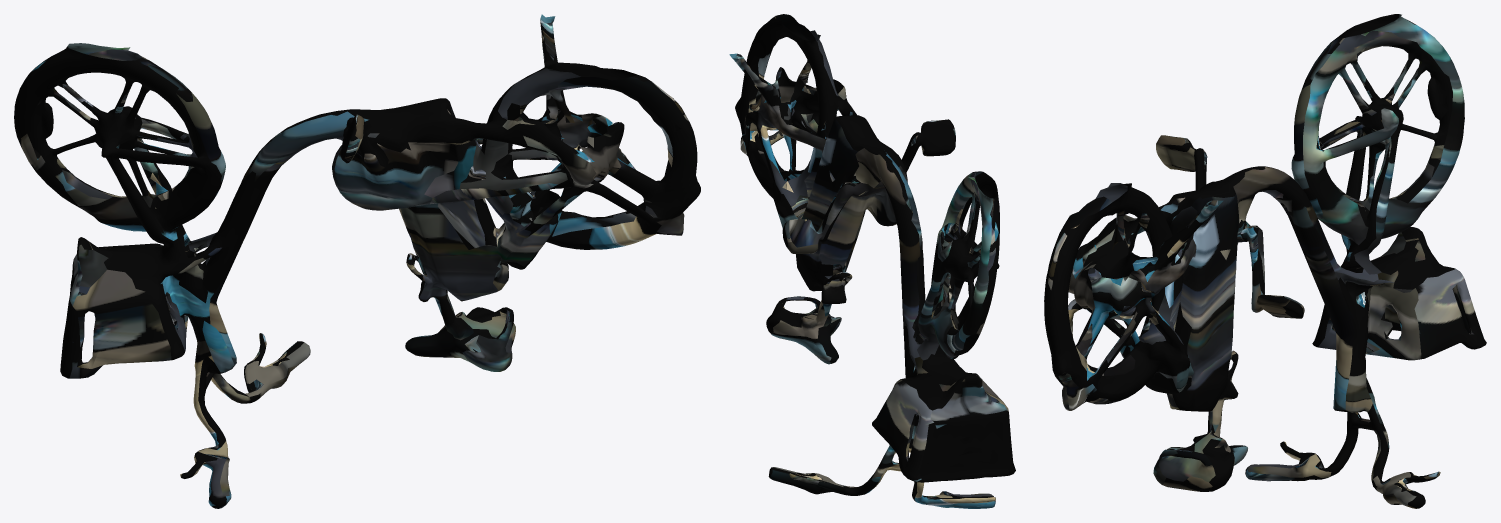
3 renders of one model, left to right at view 1: azimuth 30°, elevation 25°; view 2: azimuth 150°, elevation 25°; view 3: azimuth 270°, elevation 25°, orthographic. The views are drawn at different scales.
Bounding box in the file's own units: 1.31 × 1.09 × 1.02.
